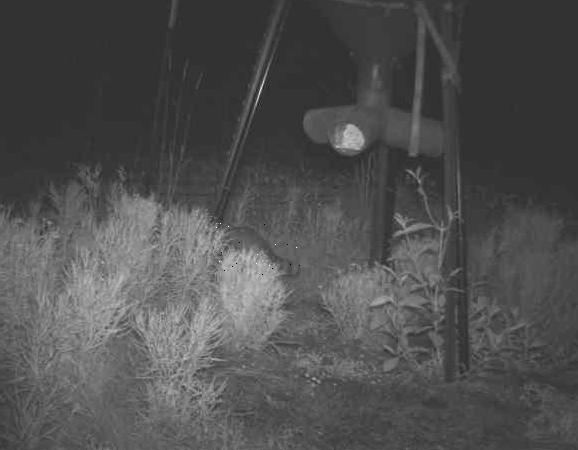Raccoon: (216, 224, 300, 279)
